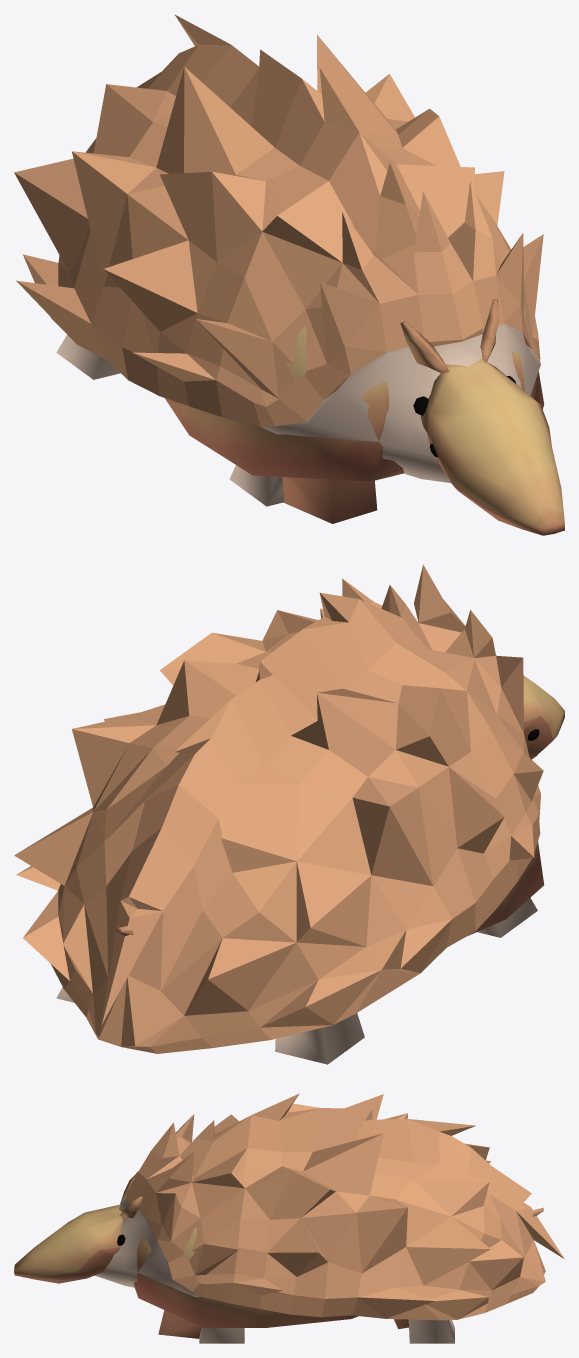
Rendered from hedgehog.fbx.
3 views of the same model, one above another, from view 1: azimuth 30°, elevation 25°; view 2: azimuth 150°, elevation 25°; view 3: azimuth 270°, elevation 25° (orthographic). The views are drawn at different scales.
Parts seen in each view (by area): view 1: Cube, Model; view 2: Cube, Model; view 3: Cube, Model.
Part boxes in pixels (<box>): Cube: <box>14,14,543,506</box>; Model: <box>165,299,564,535</box>; Cube: <box>14,564,543,1064</box>; Model: <box>116,655,564,936</box>; Cube: <box>95,1093,564,1343</box>; Model: <box>14,1171,543,1338</box>.
Bounding box in the file's own units: 398 × 328 × 777.
